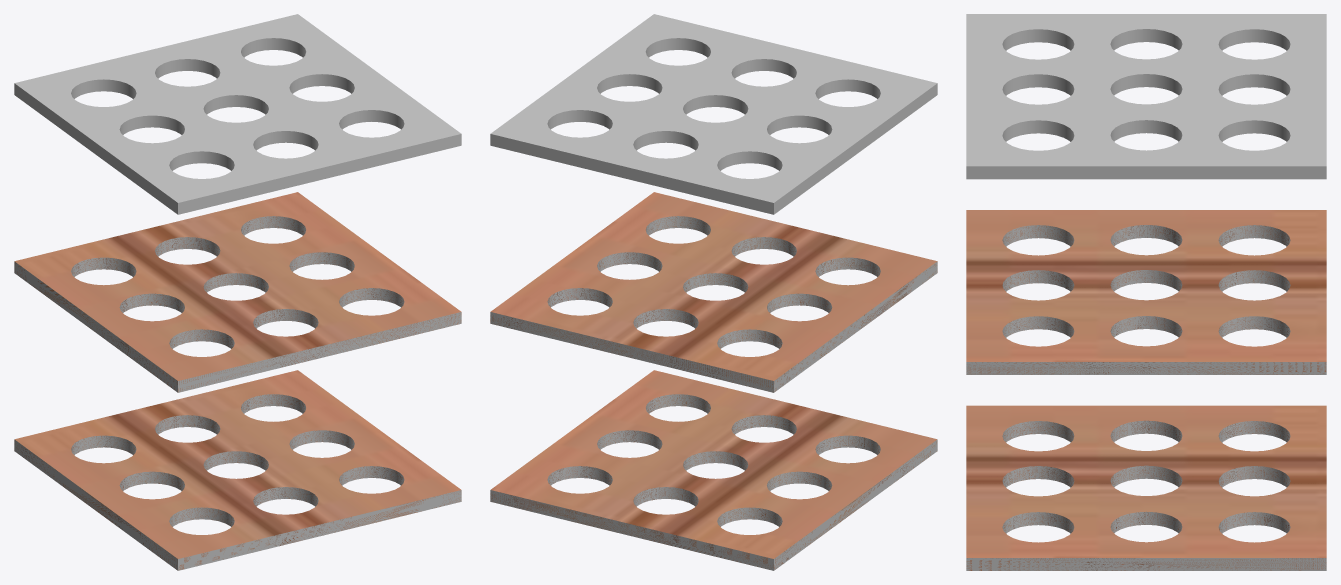
File: board.dae
3 views of the same model, side by side, from view 1: azimuth 30°, elevation 25°; view 2: azimuth 150°, elevation 25°; view 3: azimuth 270°, elevation 25° (orthographic). The views are drawn at different scales.
Parts seen in each view (by area): view 1: group_2 (×11), group_0 (×11), group_1 (×11); view 2: group_2 (×11), group_0 (×11), group_1 (×11); view 3: group_2 (×11), group_0 (×11), group_1 (×11).
Boxes of the visible parts, x1=… form: group_2 (×11): x1=14, y1=14, x2=461, y2=214; group_0 (×11): x1=14, y1=370, x2=461, y2=570; group_1 (×11): x1=14, y1=192, x2=461, y2=392; group_2 (×11): x1=490, y1=14, x2=937, y2=214; group_0 (×11): x1=490, y1=370, x2=937, y2=570; group_1 (×11): x1=490, y1=192, x2=937, y2=392; group_2 (×11): x1=966, y1=14, x2=1326, y2=179; group_0 (×11): x1=966, y1=405, x2=1326, y2=570; group_1 (×11): x1=966, y1=210, x2=1326, y2=374.
Bounding box in the file's own units: 3.94 × 3.94 × 4.88.
